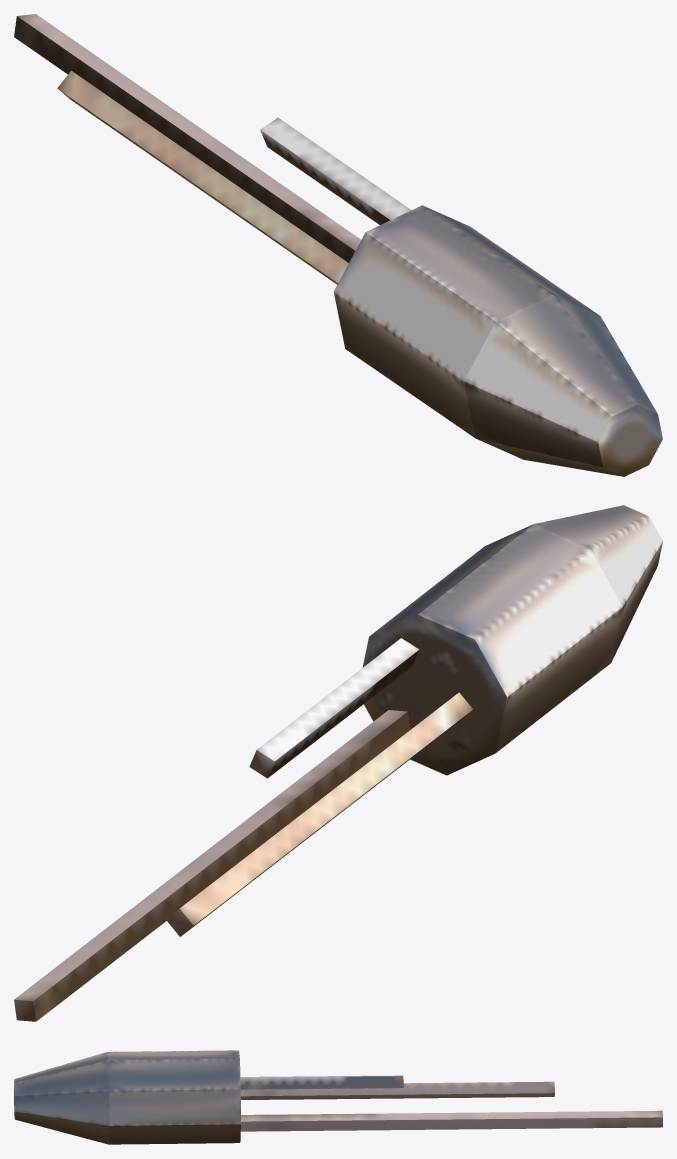
3 views of the same model, one above another, from view 1: azimuth 30°, elevation 25°; view 2: azimuth 150°, elevation 25°; view 3: azimuth 270°, elevation 25° (orthographic). The views are drawn at different scales.
Visible parts, largest first — view 1: Bala_Cylinder.003, Estela_1_Cube.006, Estela_3_Cube.008, Estela_2_Cube.007; view 2: Bala_Cylinder.003, Estela_1_Cube.006, Estela_3_Cube.008, Estela_2_Cube.007; view 3: Bala_Cylinder.003, Estela_1_Cube.006, Estela_3_Cube.008, Estela_2_Cube.007.
Boxes of the visible parts, <box> form: Bala_Cylinder.003: <box>333,205,662,476</box>; Estela_1_Cube.006: <box>14,14,360,262</box>; Estela_3_Cube.008: <box>57,70,348,284</box>; Estela_2_Cube.007: <box>260,117,411,224</box>; Bala_Cylinder.003: <box>362,505,662,775</box>; Estela_1_Cube.006: <box>14,710,410,1021</box>; Estela_3_Cube.008: <box>166,692,472,936</box>; Estela_2_Cube.007: <box>249,638,419,778</box>; Bala_Cylinder.003: <box>14,1050,240,1144</box>; Estela_1_Cube.006: <box>240,1110,662,1131</box>; Estela_3_Cube.008: <box>240,1081,554,1099</box>; Estela_2_Cube.007: <box>240,1075,403,1089</box>.
Size of what is drawn, in the model's own units: 0.2862 by 0.2754 by 1.94.
